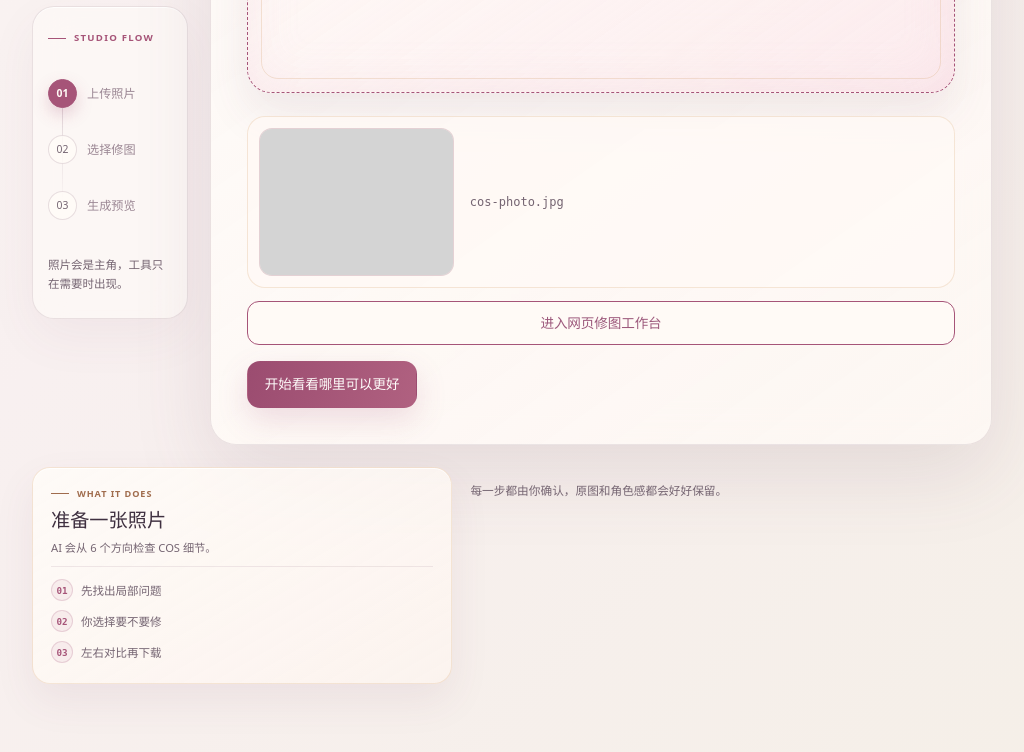
Test: COS retouch app › previews a valid upload, starts analysis, and shows bounded analysis cards
Earlier steps of the test are not shown.
(page scrolled)
Click the button "开始看看哪里可以更好": (332, 384) [247,361,417,408]
(page scrolled)
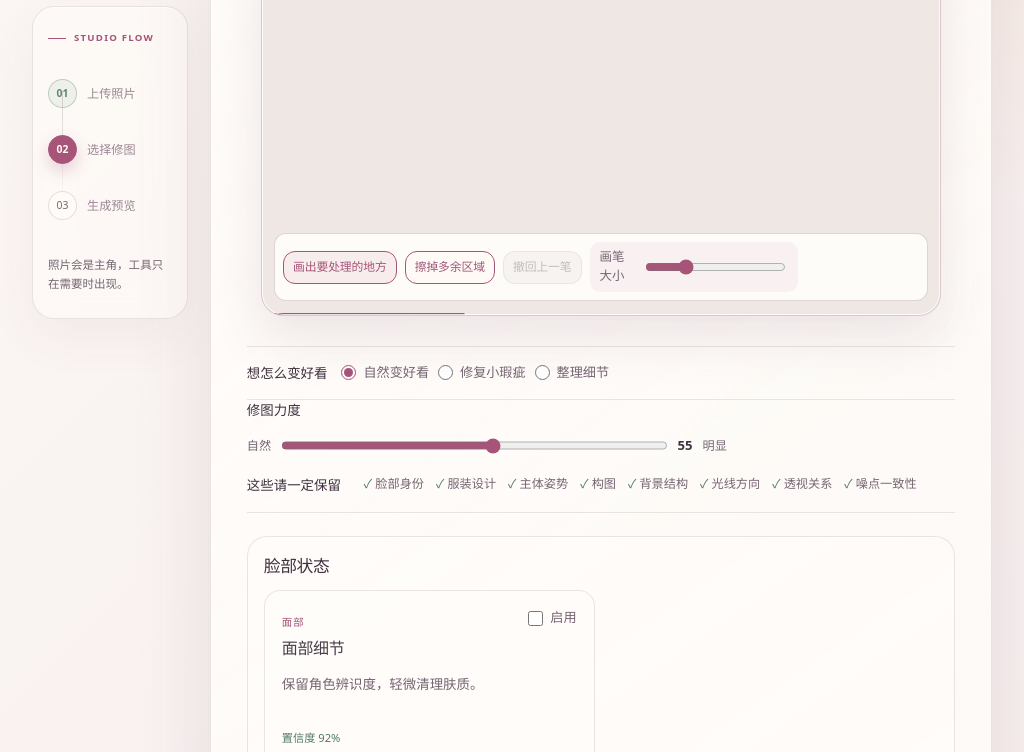
Check: the text "面部" is shown, box [282,615,305,629]
Check: the heading "脸部状态" is shown, box [264,554,329,577]
Check: the slider named "修图力度" holds "55", box [281,438,668,454]
